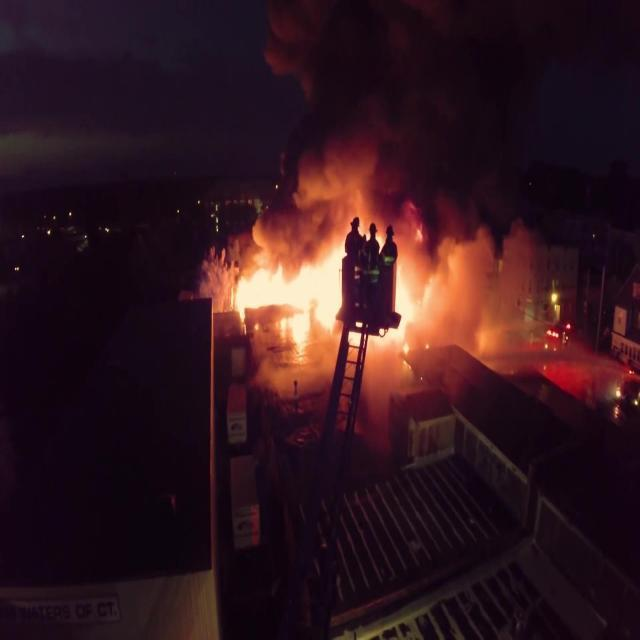Fire: (205, 208, 467, 382)
Smoke: (215, 0, 554, 252)
